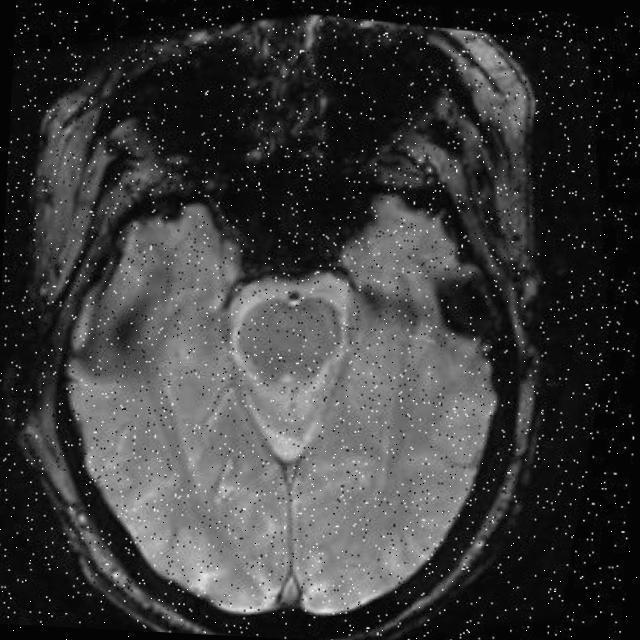CN: (83, 264, 191, 388)
LMCI: (406, 235, 534, 376)
